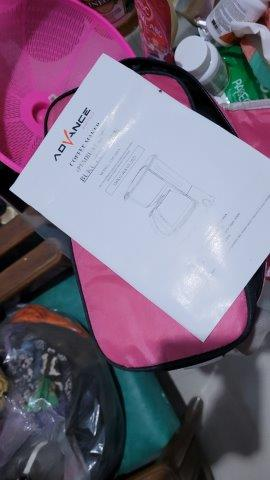kertas: (5, 54, 268, 340)
